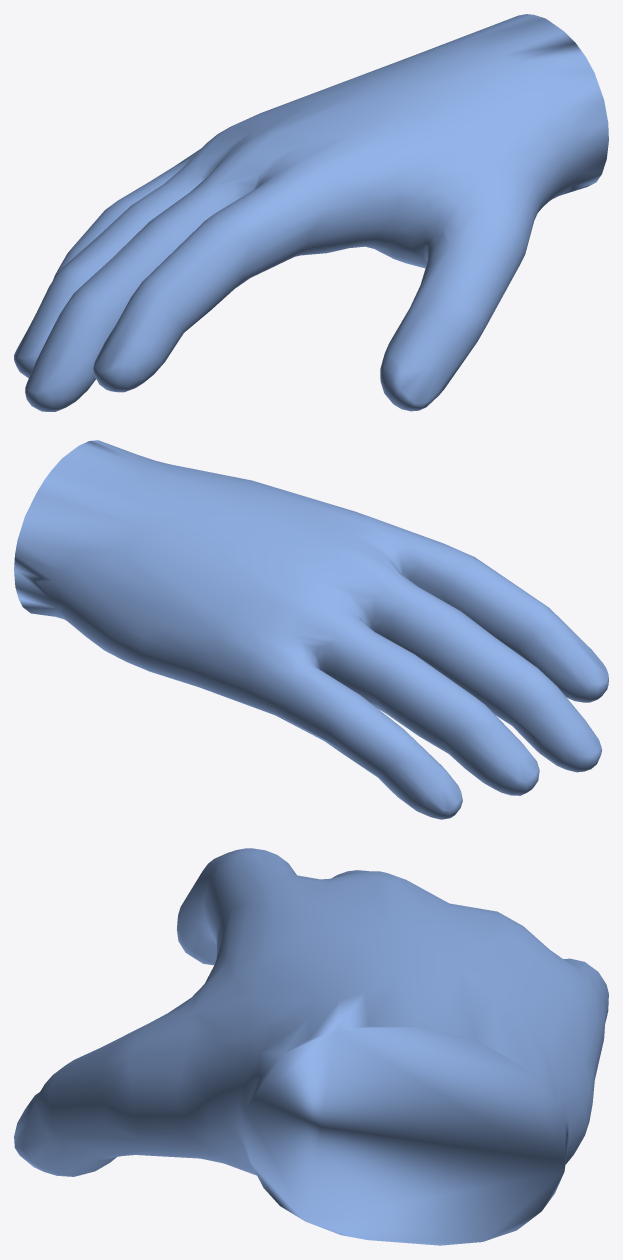
The model's file is Hand1.glb.
3 views of the same model, one above another, from view 1: azimuth 30°, elevation 25°; view 2: azimuth 150°, elevation 25°; view 3: azimuth 270°, elevation 25° (orthographic). The views are drawn at different scales.
Parts seen in each view (by area): view 1: 12683_hand_v1_FINAL; view 2: 12683_hand_v1_FINAL; view 3: 12683_hand_v1_FINAL.
Part boxes in pixels (x1=…): 12683_hand_v1_FINAL: x1=14, y1=14, x2=608, y2=411; 12683_hand_v1_FINAL: x1=14, y1=440, x2=608, y2=819; 12683_hand_v1_FINAL: x1=14, y1=848, x2=608, y2=1245.
Bounding box in the file's own units: 68.83 × 30.19 × 45.65.
